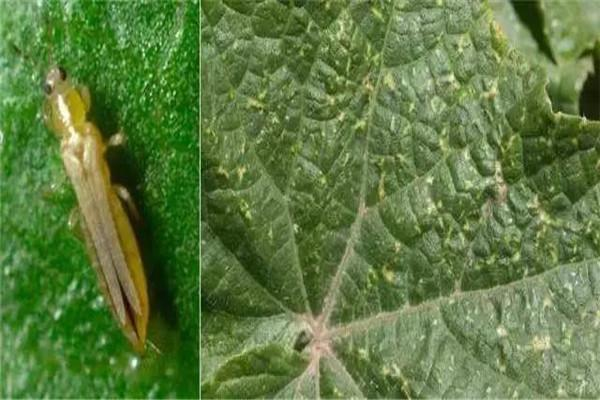Thripidae: (30, 58, 159, 357)
